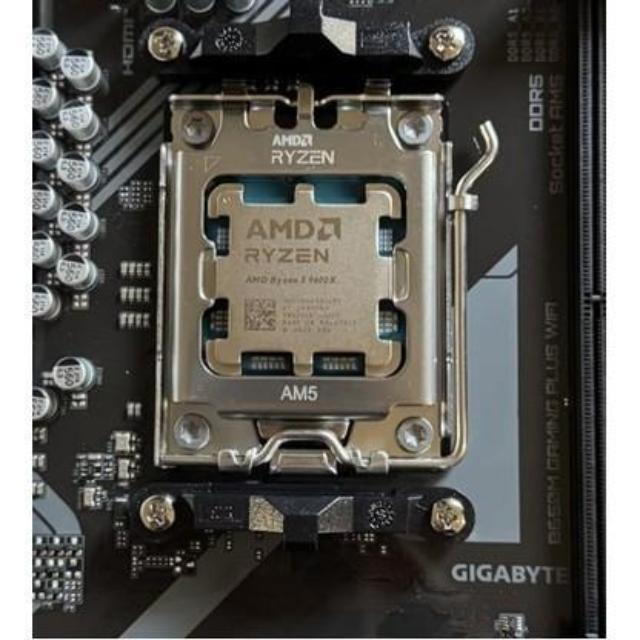CPU: (207, 179, 407, 373)
